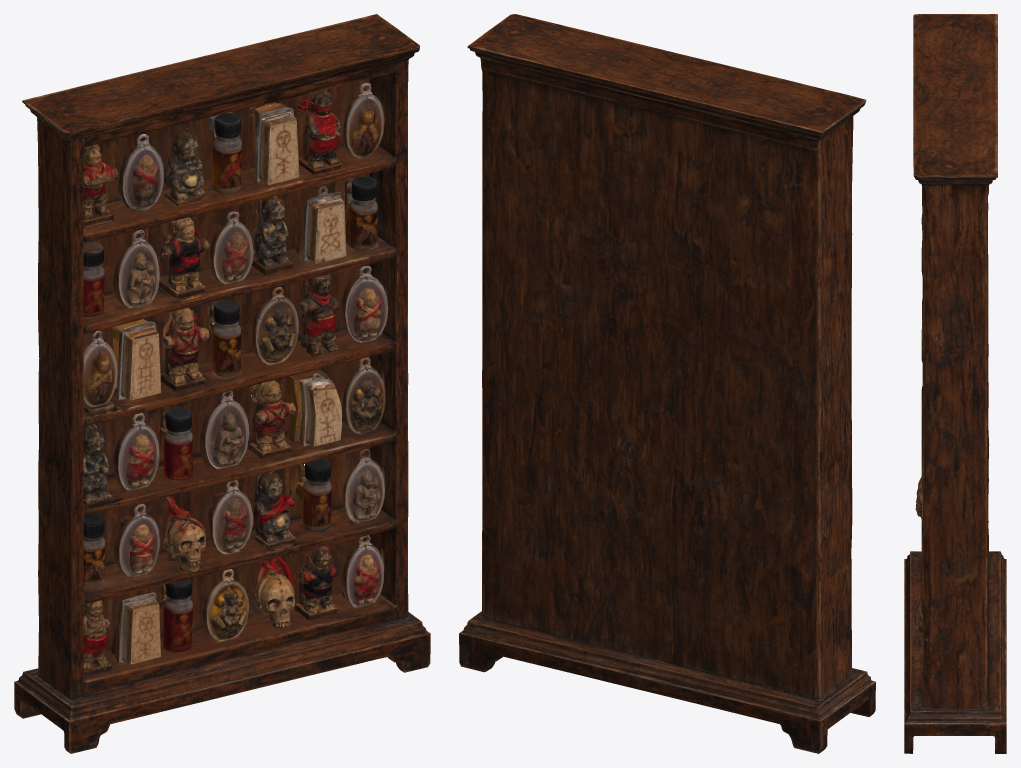
The model's file is yinshelf.glb.
3 views of the same model, side by side, from view 1: azimuth 30°, elevation 25°; view 2: azimuth 150°, elevation 25°; view 3: azimuth 270°, elevation 25° (orthographic). The views are drawn at different scales.
Parts seen in each view (by area): view 1: figure; view 2: figure; view 3: figure.
Part boxes in pixels (box(x1,y1,x2,y2)): figure: box(14, 14, 430, 753); figure: box(459, 14, 875, 753); figure: box(904, 14, 1006, 753).
Bounding box in the file's own units: 1.23 × 2 × 0.3222.
Materials: 1 (1 with a texture image).
